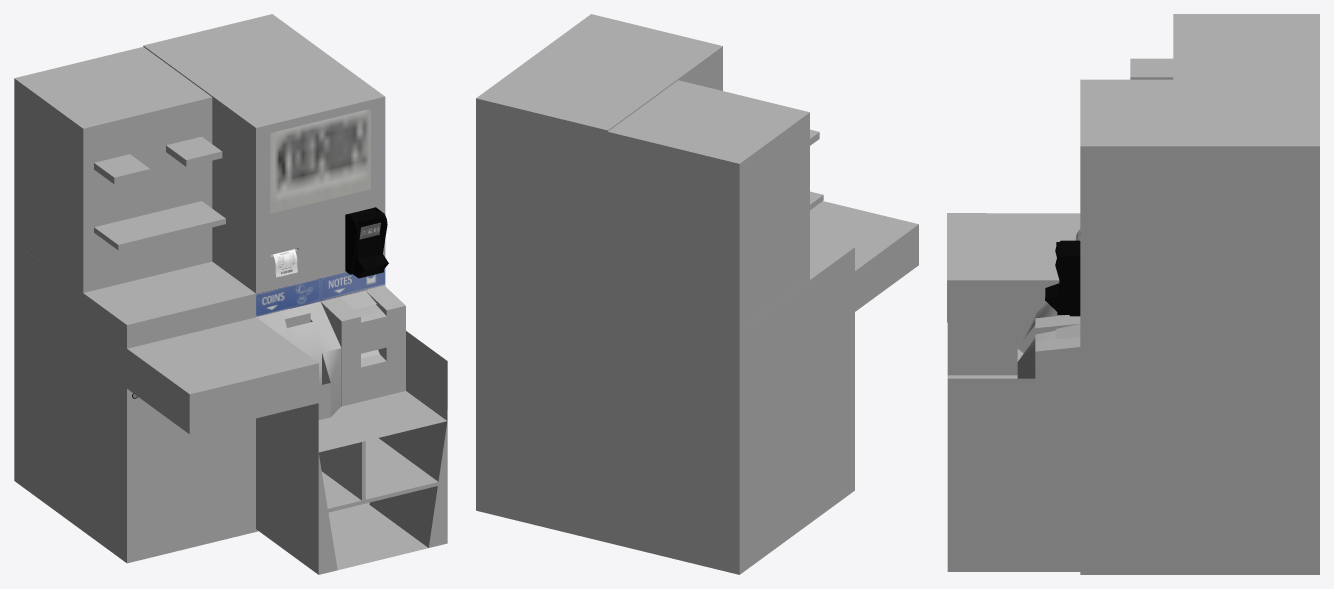
The model's file is self_checkout.fbx.
3 renders of one model, left to right at view 1: azimuth 30°, elevation 25°; view 2: azimuth 150°, elevation 25°; view 3: azimuth 270°, elevation 25°, orthographic. The views are drawn at different scales.
Visible parts, largest first — view 1: Base, SnackStash, SelfCheckOut, BagDivider, NotesPart, CoinPart, Paywave, pDisc2, Paper; view 2: Base, SnackStash, SelfCheckOut; view 3: Base, SelfCheckOut, BagDivider, SnackStash, NotesPart, pDisc1, CoinPart, Paywave.
Part boxes in pixels (box(x1,y1,x2,y2)): Base: box(14, 243, 385, 563); SnackStash: box(14, 47, 225, 292); SelfCheckOut: box(143, 14, 385, 293); BagDivider: box(256, 331, 447, 574); NotesPart: box(321, 286, 405, 406); CoinPart: box(256, 301, 341, 421); Paywave: box(348, 208, 384, 278); pDisc2: box(345, 214, 359, 274); Paper: box(273, 249, 297, 277); Base: box(476, 201, 918, 574); SnackStash: box(608, 80, 823, 331); SelfCheckOut: box(476, 14, 722, 299); Base: box(947, 213, 1319, 574); SelfCheckOut: box(1080, 79, 1319, 321); BagDivider: box(947, 311, 1080, 571); SnackStash: box(1130, 14, 1319, 79); NotesPart: box(1035, 315, 1080, 378); pDisc1: box(1055, 255, 1080, 316); CoinPart: box(1017, 303, 1065, 378); Paywave: box(1056, 242, 1080, 314).
Bounding box in the file's own units: 113 × 169 × 133.
3 materials, 3 textured.
